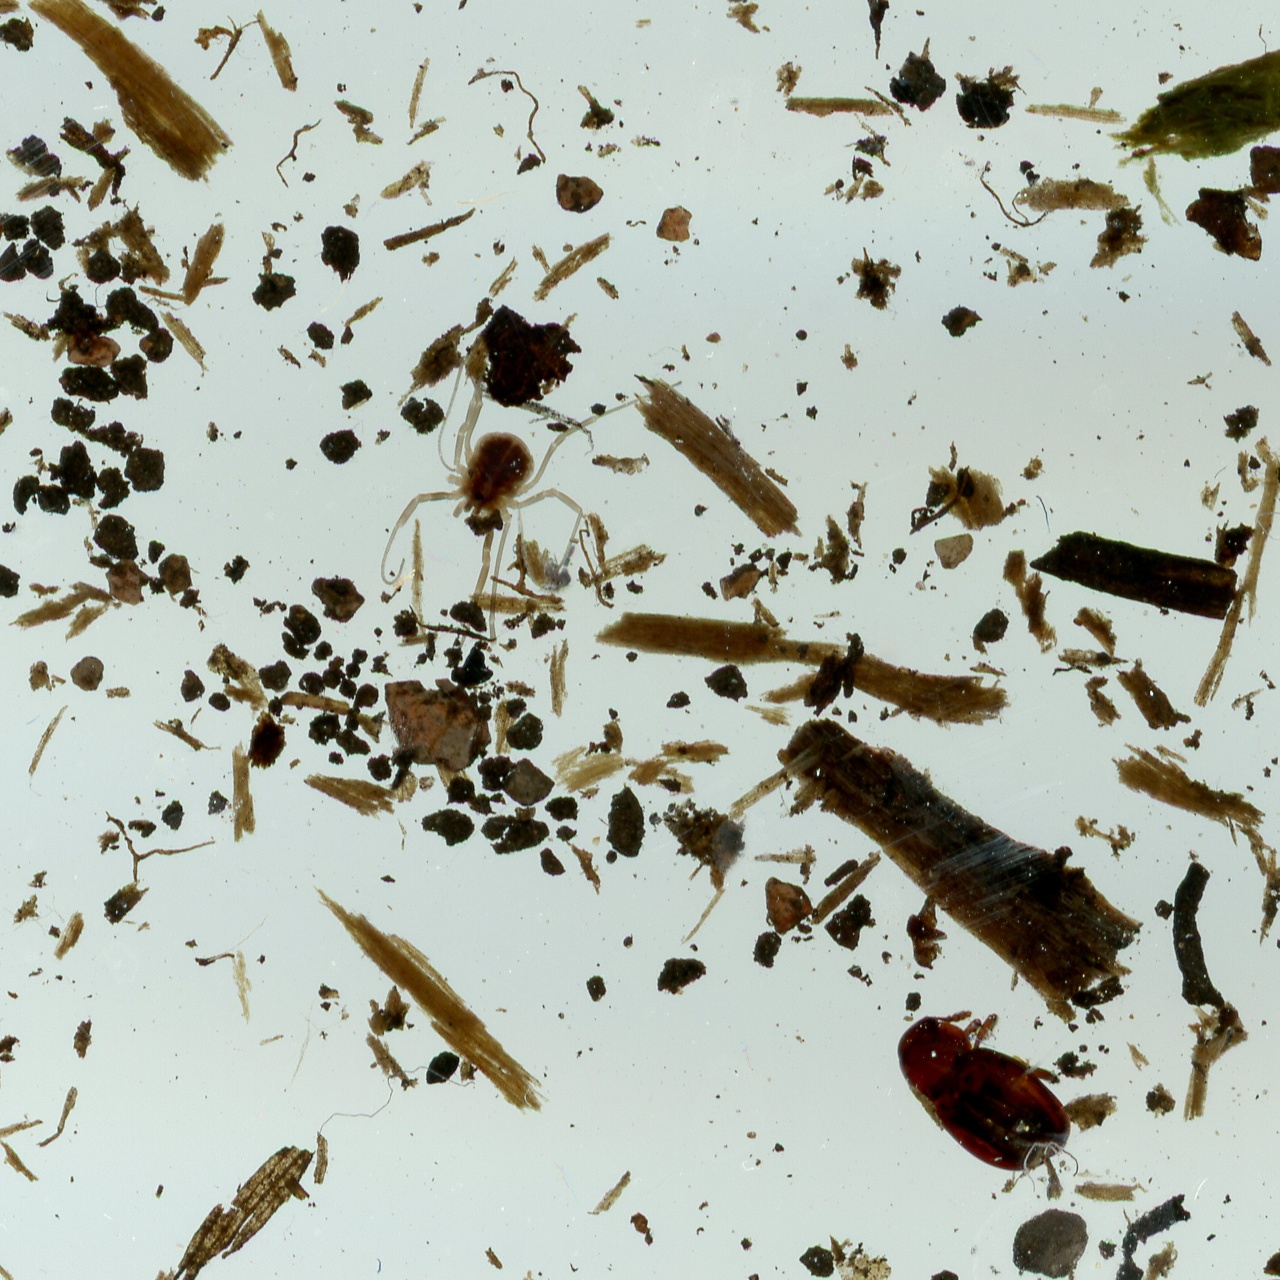arthropod: (377, 339, 688, 659), (867, 969, 1104, 1211), (476, 472, 612, 606)
